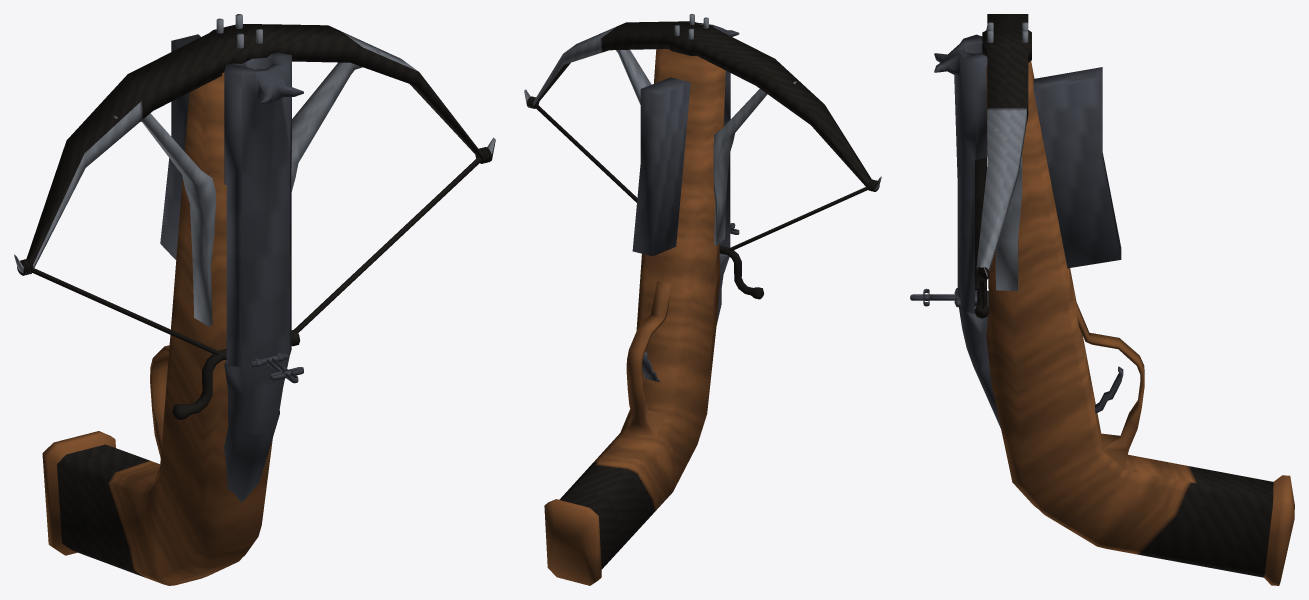
The model's file is HandCrossBowDrawn.fbx.
The picture shows the model from 3 angles, left to right: view 1: azimuth 30°, elevation 25°; view 2: azimuth 150°, elevation 25°; view 3: azimuth 270°, elevation 25°; orthographic projection. The views are drawn at different scales.
Visible parts, largest first — view 1: Plane.009; view 2: Plane.009; view 3: Plane.009.
Part boxes in pixels (x1,y1,x2,y2): Plane.009: (14, 14, 495, 585); Plane.009: (524, 14, 881, 585); Plane.009: (910, 14, 1294, 585).
Size of the model in its own units: 877 by 1117 by 710.
